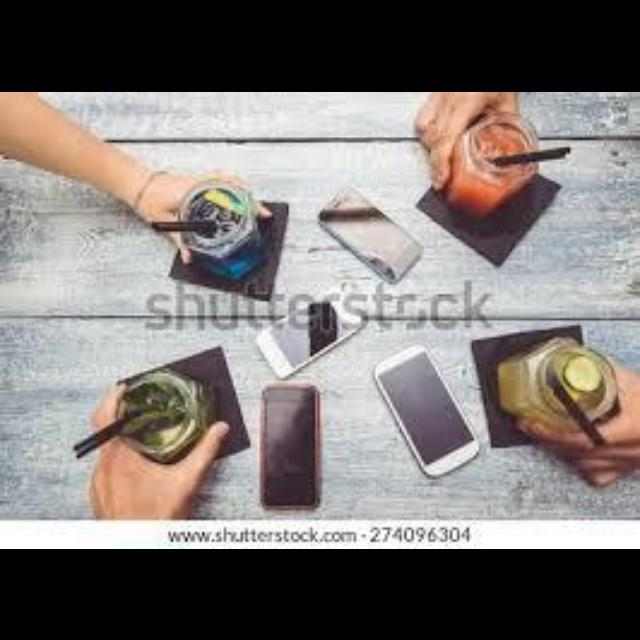Phone: (377, 344, 485, 478), (255, 286, 375, 378), (322, 186, 424, 280), (262, 387, 320, 507)
